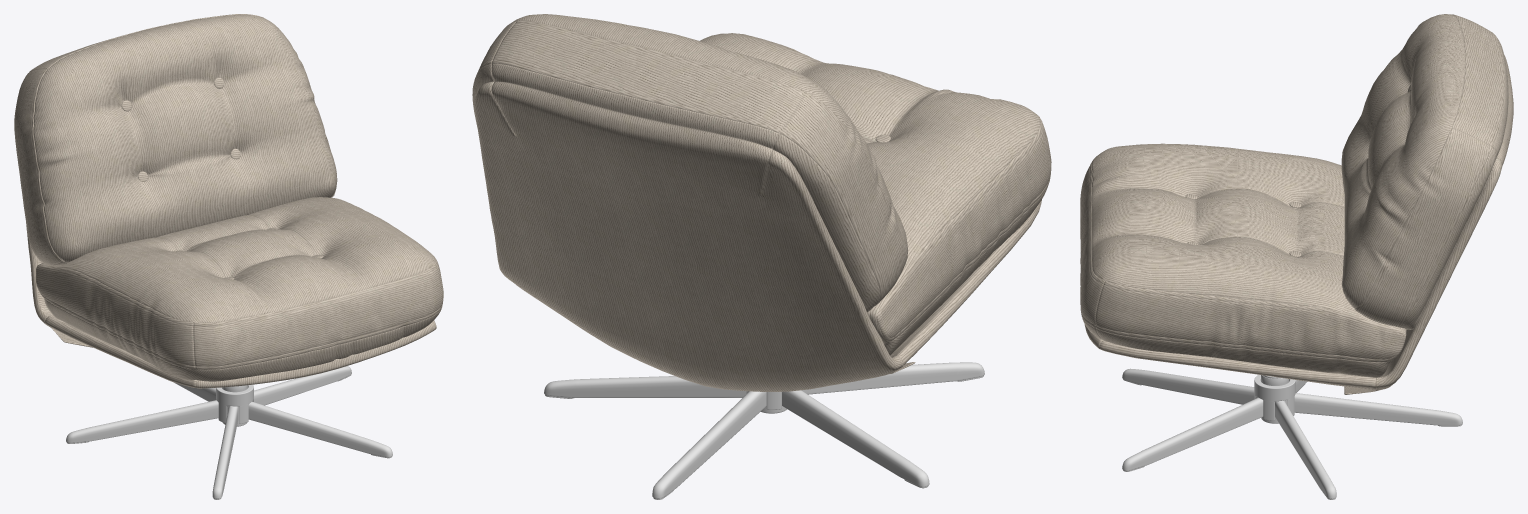
3 renders of one model, left to right at view 1: azimuth 30°, elevation 25°; view 2: azimuth 150°, elevation 25°; view 3: azimuth 270°, elevation 25°, orthographic. The views are drawn at different scales.
Visible parts, largest first — view 1: 1000, 1002; view 2: 1000, 1002; view 3: 1000, 1002.
Part boxes in pixels (x1,y1,x2,y2): 1000: (14,14,443,388); 1002: (66,366,392,499); 1000: (472,14,1051,391); 1002: (544,362,984,499); 1000: (1080,14,1513,394); 1002: (1122,368,1462,499).
Bounding box in the file's own units: 0.6374 × 0.7071 × 0.7553.
Materials: 2 (1 with a texture image).
